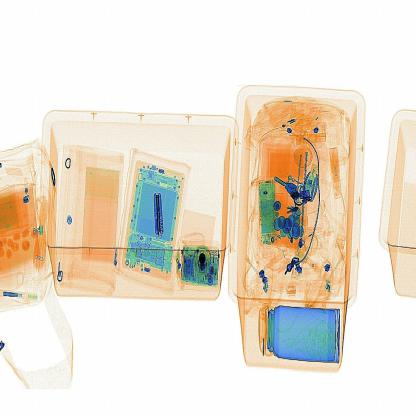scissors: (151, 184, 168, 248)
